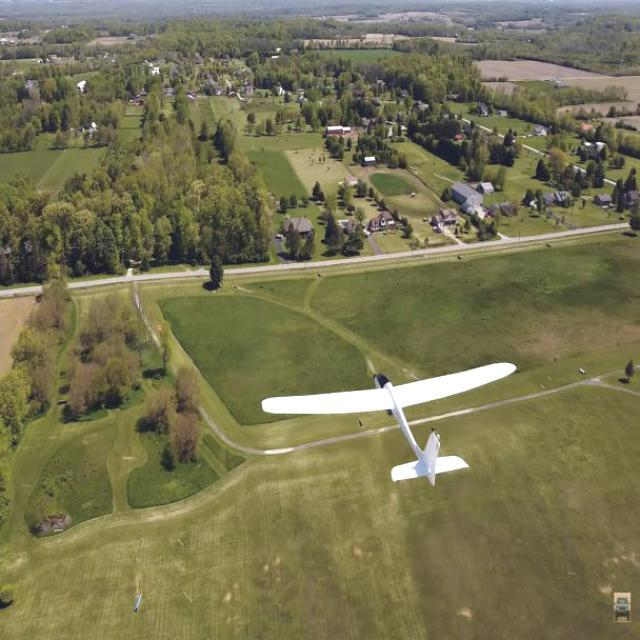iha: (261, 358, 518, 491)
